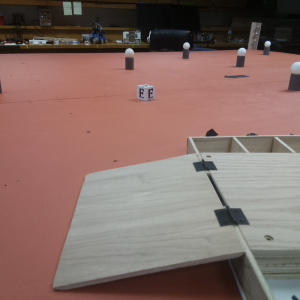blockE: (136, 84, 155, 101)
corner: (247, 20, 260, 50)
obstacle: (287, 61, 300, 91), (123, 47, 136, 70), (236, 48, 246, 66), (182, 43, 190, 60), (263, 39, 271, 56)
slope: (53, 157, 244, 288)
start: (222, 72, 249, 81)
